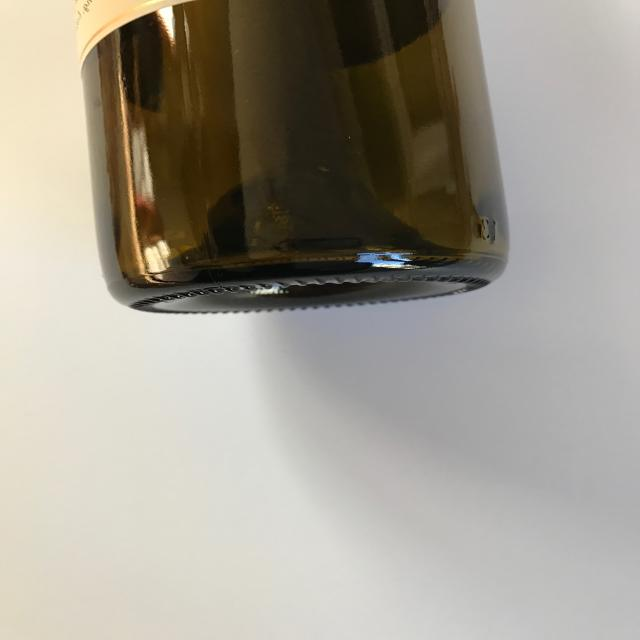glass: (48, 1, 562, 360)
